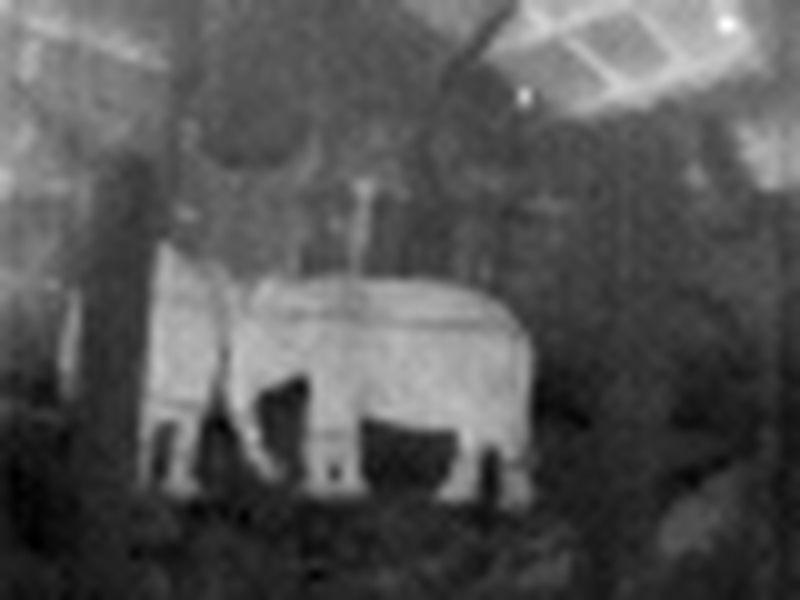elephant: (85, 244, 530, 524)
